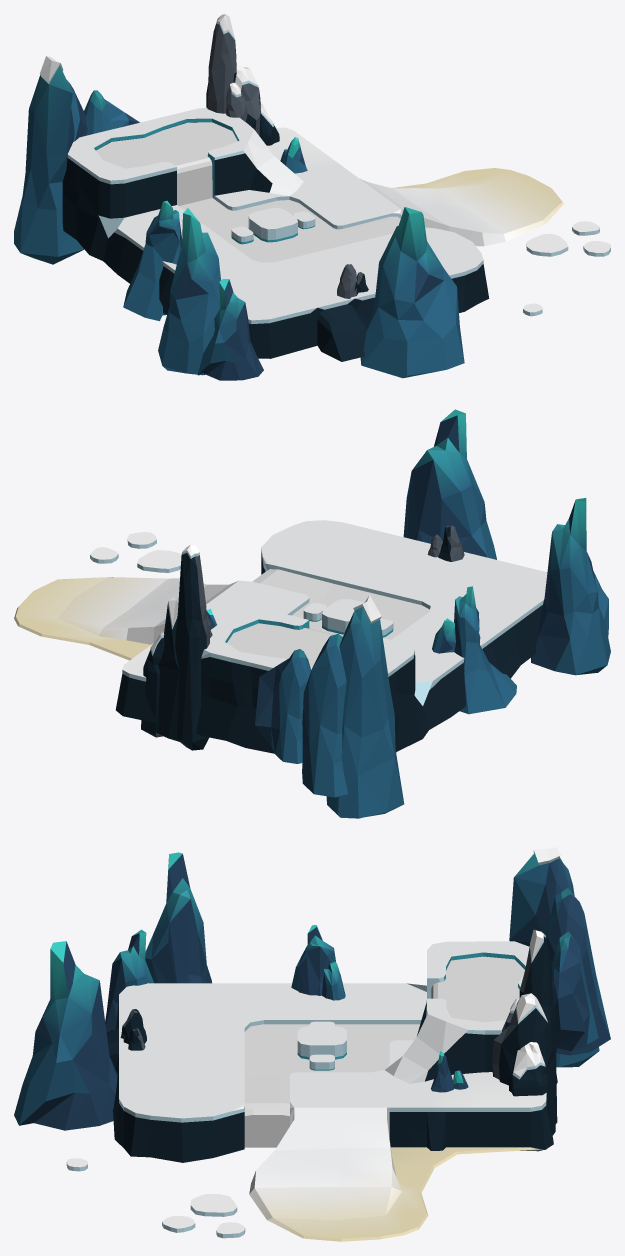
File: Tundra_Island.fbx
The picture shows the model from 3 angles, top to bottom: view 1: azimuth 30°, elevation 25°; view 2: azimuth 150°, elevation 25°; view 3: azimuth 270°, elevation 25°; orthographic projection. The views are drawn at different scales.
Visible parts, largest first — view 1: Plane, Mball.001, Mball.004, Mball.002, Plane.004, Mball.010, Plane.015, Mball.007, Mball.003, Plane.016, Plane.005, Mball.008 (+1 smaller); view 2: Plane, Mball.004, Mball.002, Mball.010, Mball.001, Mball.003, Plane.004, Plane.015, Plane.005, Mball.005; view 3: Plane, Mball.001, Mball.004, Plane.004, Mball.010, Mball.002, Plane.015, Mball.003, Mball.007, Plane.005, Mball.008, Plane.016.
Part boxes in pixels (x1=…): Plane: x1=62, y1=107, x2=563, y2=361; Mball.001: x1=360, y1=207, x2=464, y2=378; Mball.004: x1=14, y1=56, x2=139, y2=264; Mball.002: x1=158, y1=208, x2=220, y2=375; Plane.004: x1=198, y1=200, x2=400, y2=262; Mball.010: x1=206, y1=14, x2=279, y2=145; Plane.015: x1=96, y1=122, x2=237, y2=168; Mball.007: x1=198, y1=279, x2=263, y2=380; Mball.003: x1=123, y1=200, x2=181, y2=321; Plane.016: x1=176, y1=157, x2=227, y2=219; Plane.005: x1=526, y1=233, x2=568, y2=256; Mball.008: x1=280, y1=137, x2=307, y2=173; Plane: x1=14, y1=520, x2=547, y2=753; Mball.004: x1=255, y1=595, x2=404, y2=818; Mball.002: x1=531, y1=498, x2=610, y2=675; Mball.010: x1=141, y1=544, x2=212, y2=750; Mball.001: x1=403, y1=409, x2=496, y2=559; Mball.003: x1=432, y1=586, x2=516, y2=714; Plane.004: x1=252, y1=569, x2=429, y2=639; Plane.015: x1=227, y1=623, x2=332, y2=666; Plane.005: x1=137, y1=550, x2=181, y2=572; Mball.005: x1=438, y1=525, x2=464, y2=561; Plane: x1=106, y1=941, x2=557, y2=1241; Mball.001: x1=14, y1=941, x2=117, y2=1130; Mball.004: x1=509, y1=847, x2=610, y2=1067; Plane.004: x1=244, y1=1024, x2=390, y2=1147; Mball.010: x1=492, y1=929, x2=557, y2=1151; Mball.002: x1=145, y1=852, x2=211, y2=983; Plane.015: x1=438, y1=956, x2=524, y2=1022; Mball.003: x1=291, y1=925, x2=345, y2=1000; Mball.007: x1=105, y1=929, x2=153, y2=1032; Plane.005: x1=190, y1=1194, x2=237, y2=1216; Mball.008: x1=431, y1=1051, x2=468, y2=1092; Plane.016: x1=382, y1=982, x2=437, y2=1041.
Bounding box in the file's own units: 5112 × 2128 × 5191.
